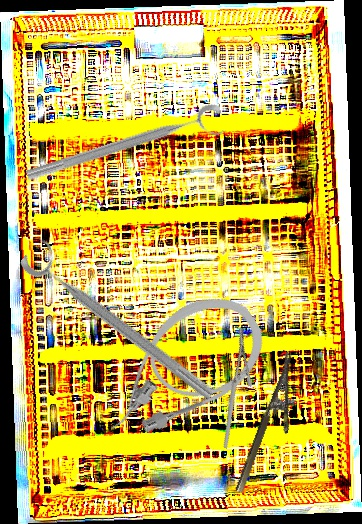Cannula: (78, 278, 280, 456)
Fixation Ring: (17, 233, 228, 407), (23, 101, 229, 198)
Needle Holder: (233, 351, 315, 501), (187, 327, 279, 449)
